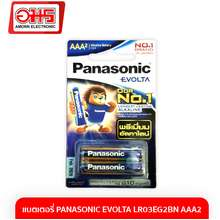Battery: (78, 160, 144, 176), (80, 147, 144, 161)
